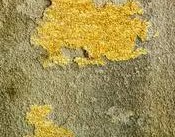Corrosion: (28, 1, 151, 70), (24, 103, 75, 137)
